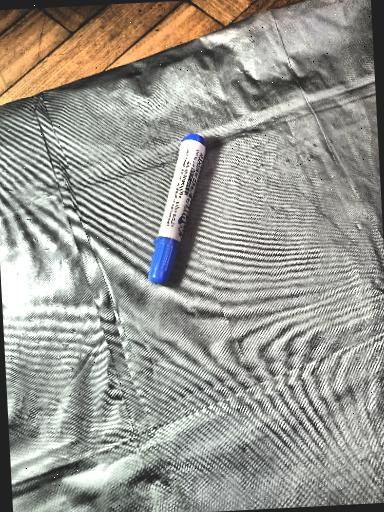marcador azul: (149, 133, 206, 284)
